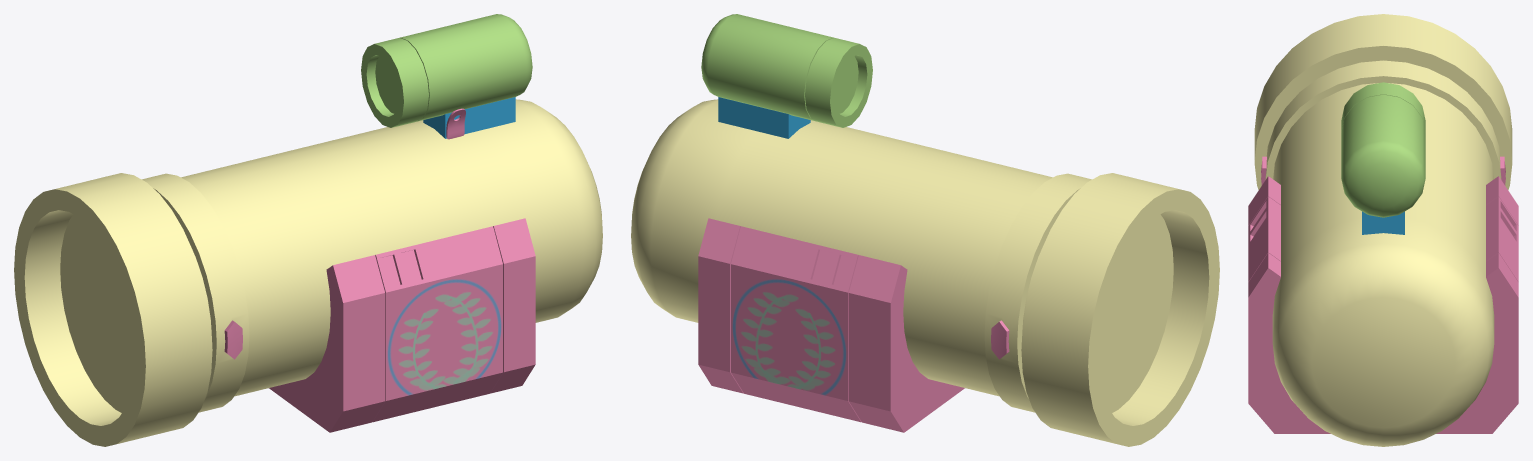
The model's file is Fort.fbx.
The picture shows the model from 3 angles, left to right: view 1: azimuth 30°, elevation 25°; view 2: azimuth 150°, elevation 25°; view 3: azimuth 270°, elevation 25°; orthographic projection. The views are drawn at different scales.
Parts seen in each view (by area): view 1: barrel, barrel rack, small turret, small turret pillar; view 2: barrel, barrel rack, small turret, small turret pillar; view 3: barrel, barrel rack, small turret, small turret pillar.
Boxes of the visible parts, x1,y1,x2,y2 form: barrel: [14, 99, 602, 446]; barrel rack: [269, 218, 535, 432]; small turret: [361, 14, 532, 127]; small turret pillar: [423, 97, 515, 138]; barrel: [631, 99, 1219, 446]; barrel rack: [698, 218, 964, 432]; small turret: [701, 14, 872, 127]; small turret pillar: [718, 97, 810, 138]; barrel: [1254, 14, 1512, 446]; barrel rack: [1248, 176, 1518, 433]; small turret: [1341, 82, 1425, 217]; small turret pillar: [1362, 211, 1404, 234].
Size of the model in its own units: 192 by 120 by 94.49.
